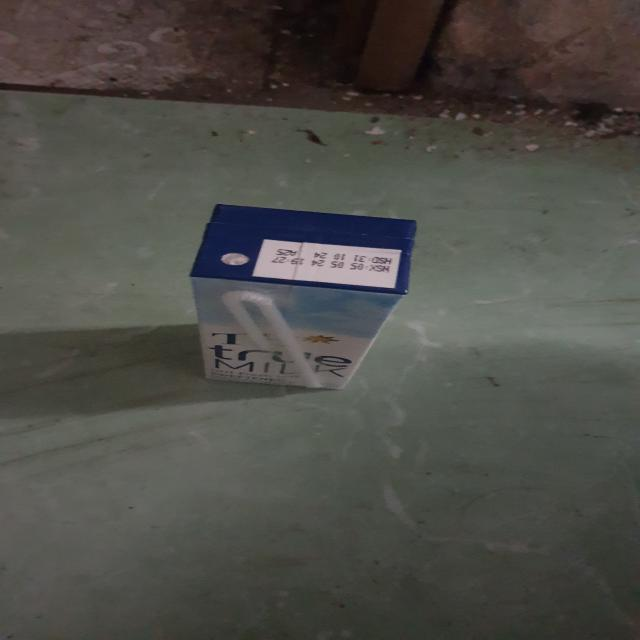TH: (189, 207, 420, 391)
